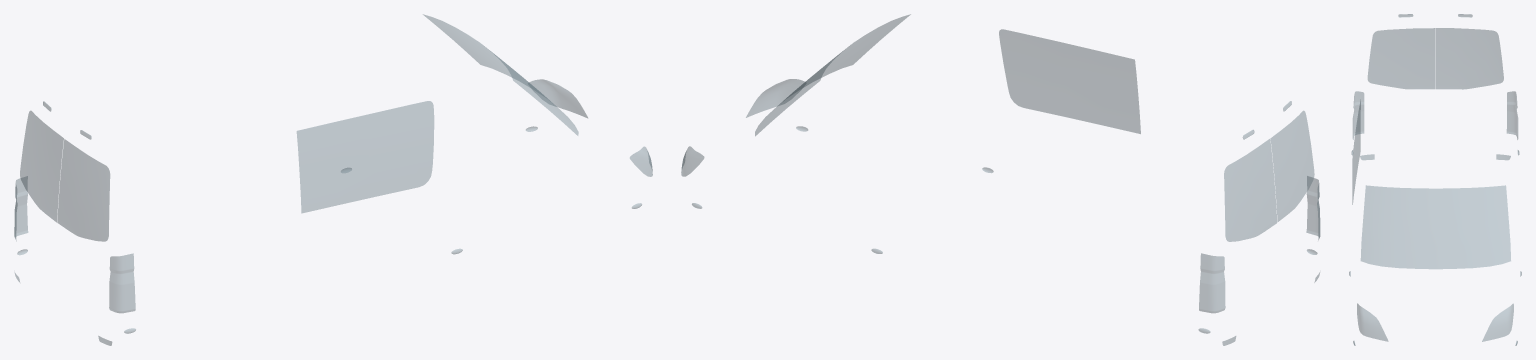
3 views of the same model, side by side, from view 1: azimuth 30°, elevation 25°; view 2: azimuth 150°, elevation 25°; view 3: azimuth 270°, elevation 25° (orthographic). The views are drawn at different scales.
Parts seen in each view (by area): view 1: SM_MercedesSprinter_Glass_Int1; view 2: SM_MercedesSprinter_Glass_Int1; view 3: SM_MercedesSprinter_Glass_Int1.
Boxes of the visible parts, x1,y1,x2,y2 form: SM_MercedesSprinter_Glass_Int1: (14,14,652,345); SM_MercedesSprinter_Glass_Int1: (681,14,1320,345); SM_MercedesSprinter_Glass_Int1: (1349,14,1521,345).
Size of the model in its own units: 5.77 by 1.89 by 2.
